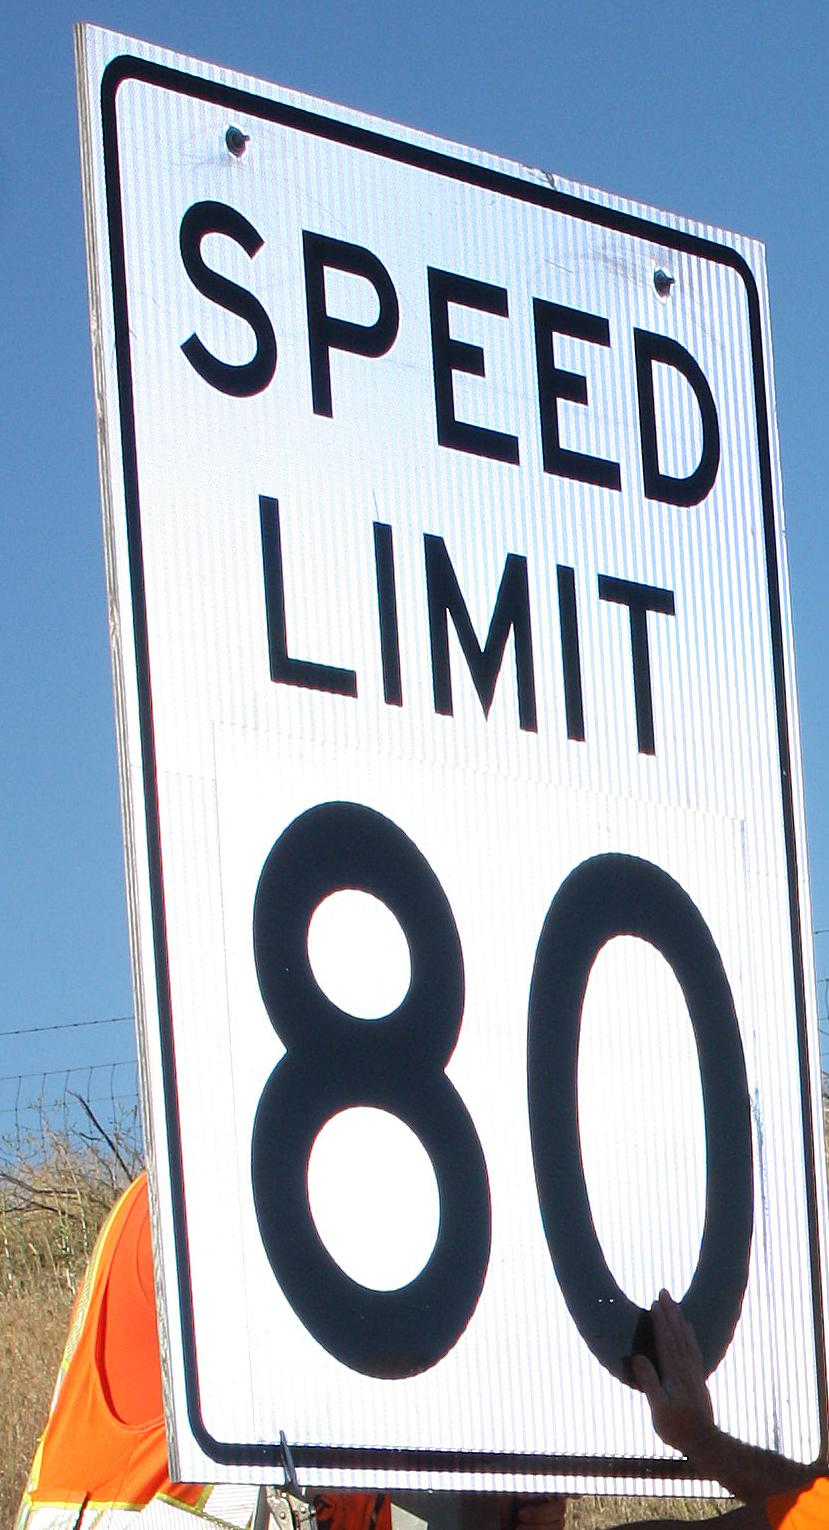Speed Limit -80-: (0, 1, 828, 1529)
